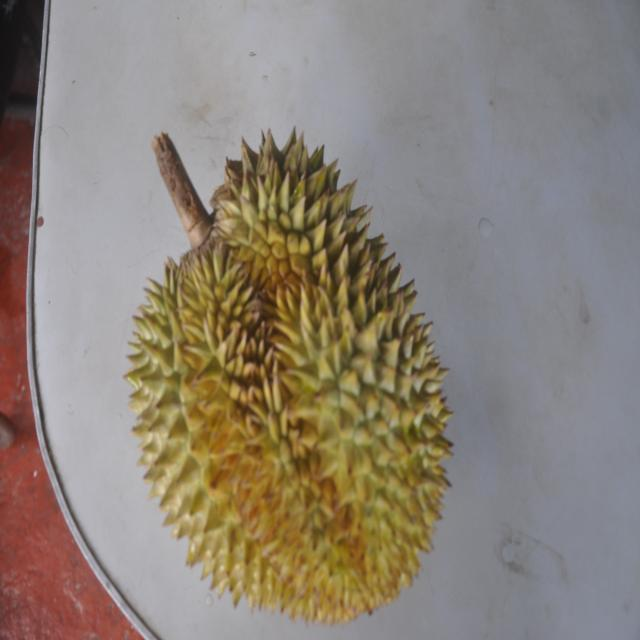mature: (121, 123, 447, 624)
